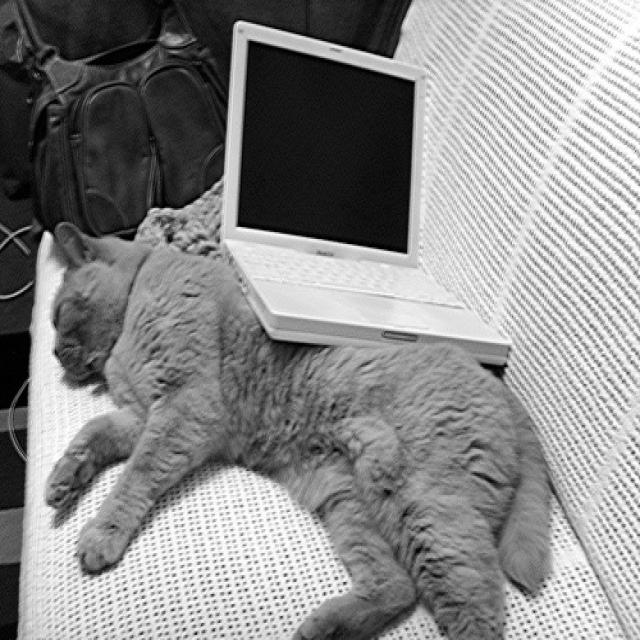cat: (44, 218, 552, 638)
sofa: (18, 2, 639, 638)
